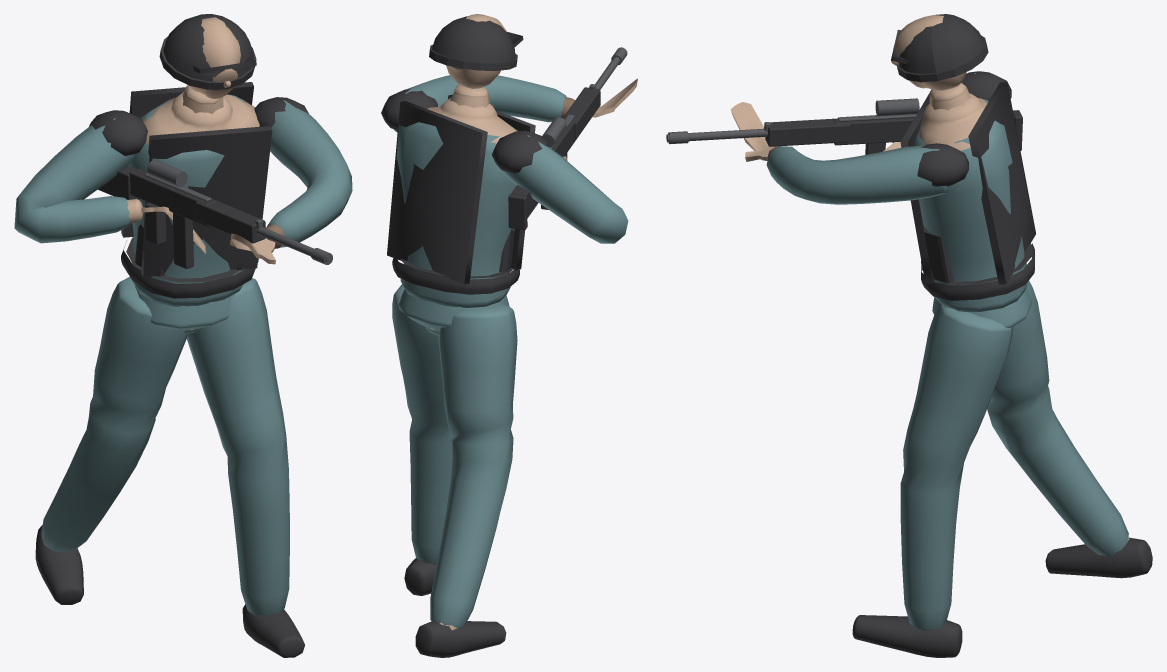
File: tactical-shooter-hill-town-assault-trooper-standing-ai-4aabf3cb__27567.glb
3 renders of one model, left to right at view 1: azimuth 30°, elevation 25°; view 2: azimuth 150°, elevation 25°; view 3: azimuth 270°, elevation 25°, orthographic. The views are drawn at different scales.
Visible parts, largest first — view 1: assault-trooper-standing-aim; view 2: assault-trooper-standing-aim; view 3: assault-trooper-standing-aim.
Boxes of the visible parts, bbox=[...] form: assault-trooper-standing-aim: bbox=[14, 14, 352, 657]; assault-trooper-standing-aim: bbox=[381, 14, 637, 657]; assault-trooper-standing-aim: bbox=[666, 14, 1152, 657].
Size of the model in its own units: 0.8173 by 1.79 by 1.28.
